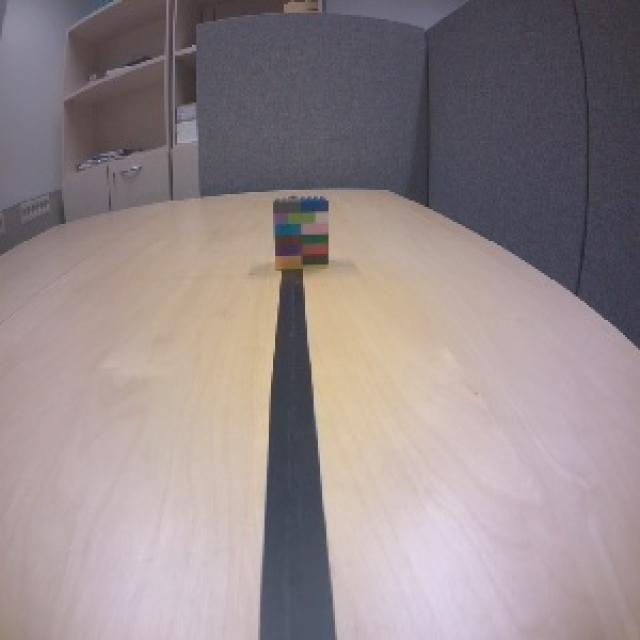obstacle: (272, 193, 330, 270)
